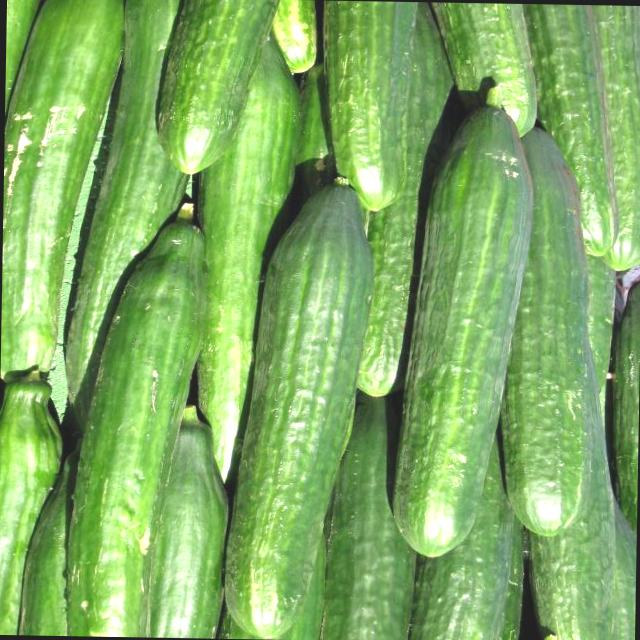Cucumber: (227, 183, 369, 625), (63, 224, 208, 634), (401, 109, 531, 545), (64, 2, 198, 410), (4, 0, 121, 389), (192, 32, 298, 456), (502, 124, 601, 534), (359, 38, 447, 386), (521, 360, 622, 640), (157, 0, 297, 174), (408, 427, 520, 640), (515, 4, 616, 240), (320, 396, 414, 637), (149, 408, 229, 638), (322, 3, 412, 202)
